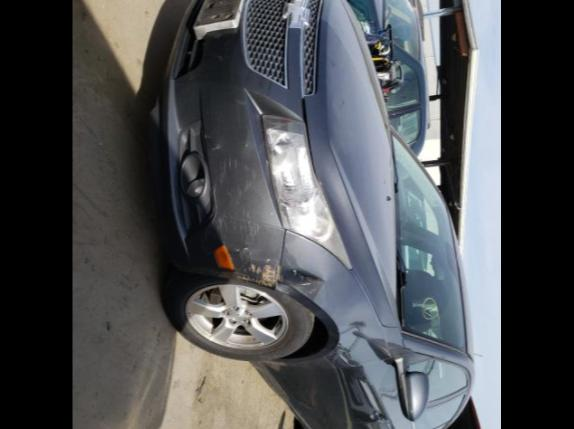Broken part: (268, 230, 286, 290)
Corrosion: (234, 262, 282, 288), (258, 358, 288, 370)
Dent: (276, 246, 325, 300)
Missing part: (194, 0, 240, 26)
Scratch: (216, 158, 260, 260), (190, 124, 212, 138), (210, 142, 220, 150)
